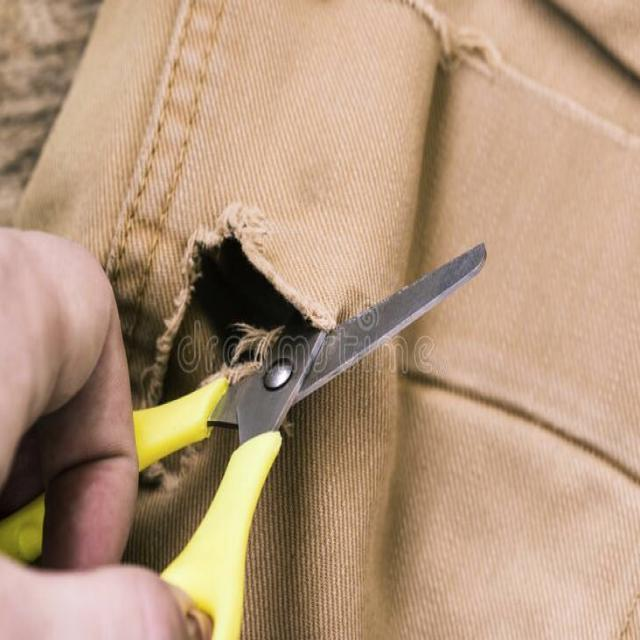clothes: (75, 0, 536, 640), (486, 6, 640, 640)
